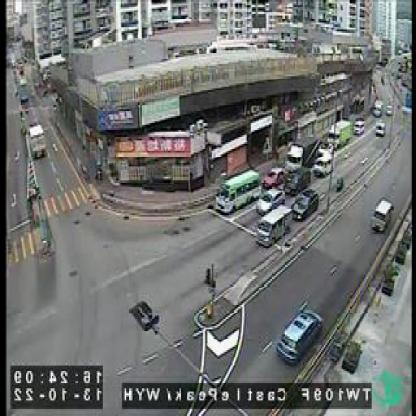Car: (277, 308, 323, 364), (257, 205, 292, 249), (292, 186, 319, 220), (370, 197, 394, 231), (284, 165, 311, 194), (257, 186, 284, 214), (261, 167, 285, 190), (314, 154, 333, 178), (374, 121, 385, 139), (354, 118, 366, 133), (373, 100, 382, 115), (386, 101, 394, 117)
Minibus: (215, 168, 260, 214)
Truck: (286, 136, 324, 173), (326, 119, 352, 151), (28, 123, 47, 159)
